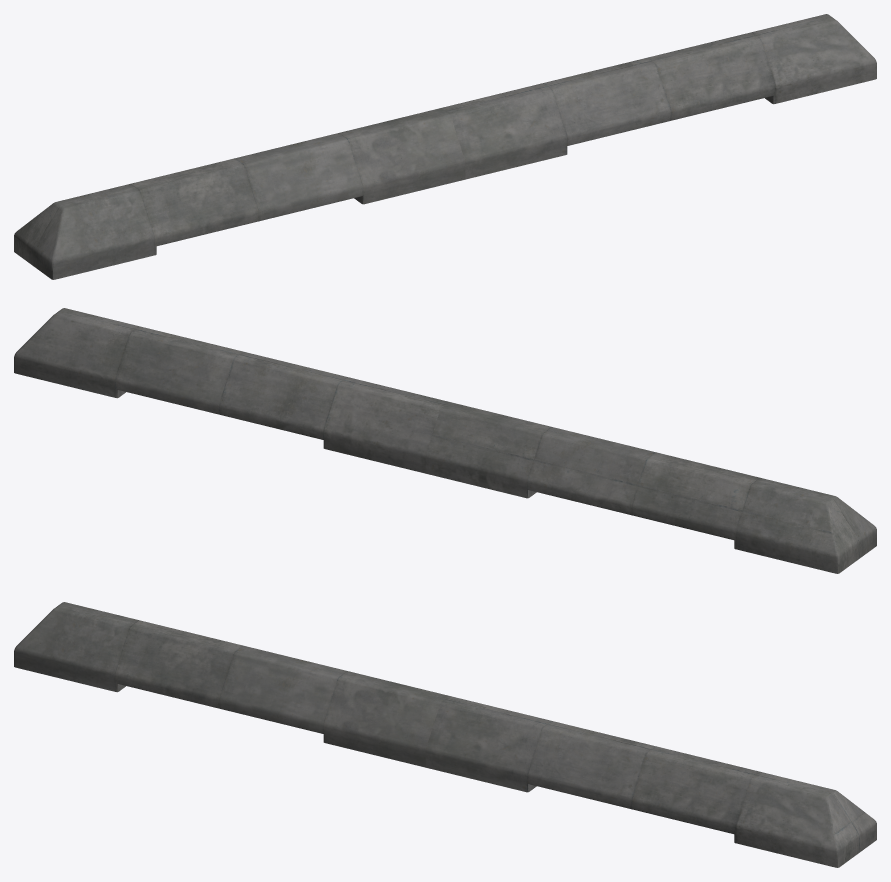
File: SM_Carpark_Block.fbx
The picture shows the model from 3 angles, top to bottom: view 1: azimuth 30°, elevation 25°; view 2: azimuth 150°, elevation 25°; view 3: azimuth 330°, elevation 25°; orthographic projection.
Visible parts, largest first — view 1: SM_Carpark_Block_LOD0; view 2: SM_Carpark_Block_LOD0; view 3: SM_Carpark_Block_LOD0.
Part boxes in pixels (box(x1,y1,x2,y2)): SM_Carpark_Block_LOD0: box(14, 14, 876, 279); SM_Carpark_Block_LOD0: box(14, 308, 876, 573); SM_Carpark_Block_LOD0: box(14, 602, 876, 867).
Bounding box in the file's own units: 240 × 20 × 15.
1 material, 1 textured.
